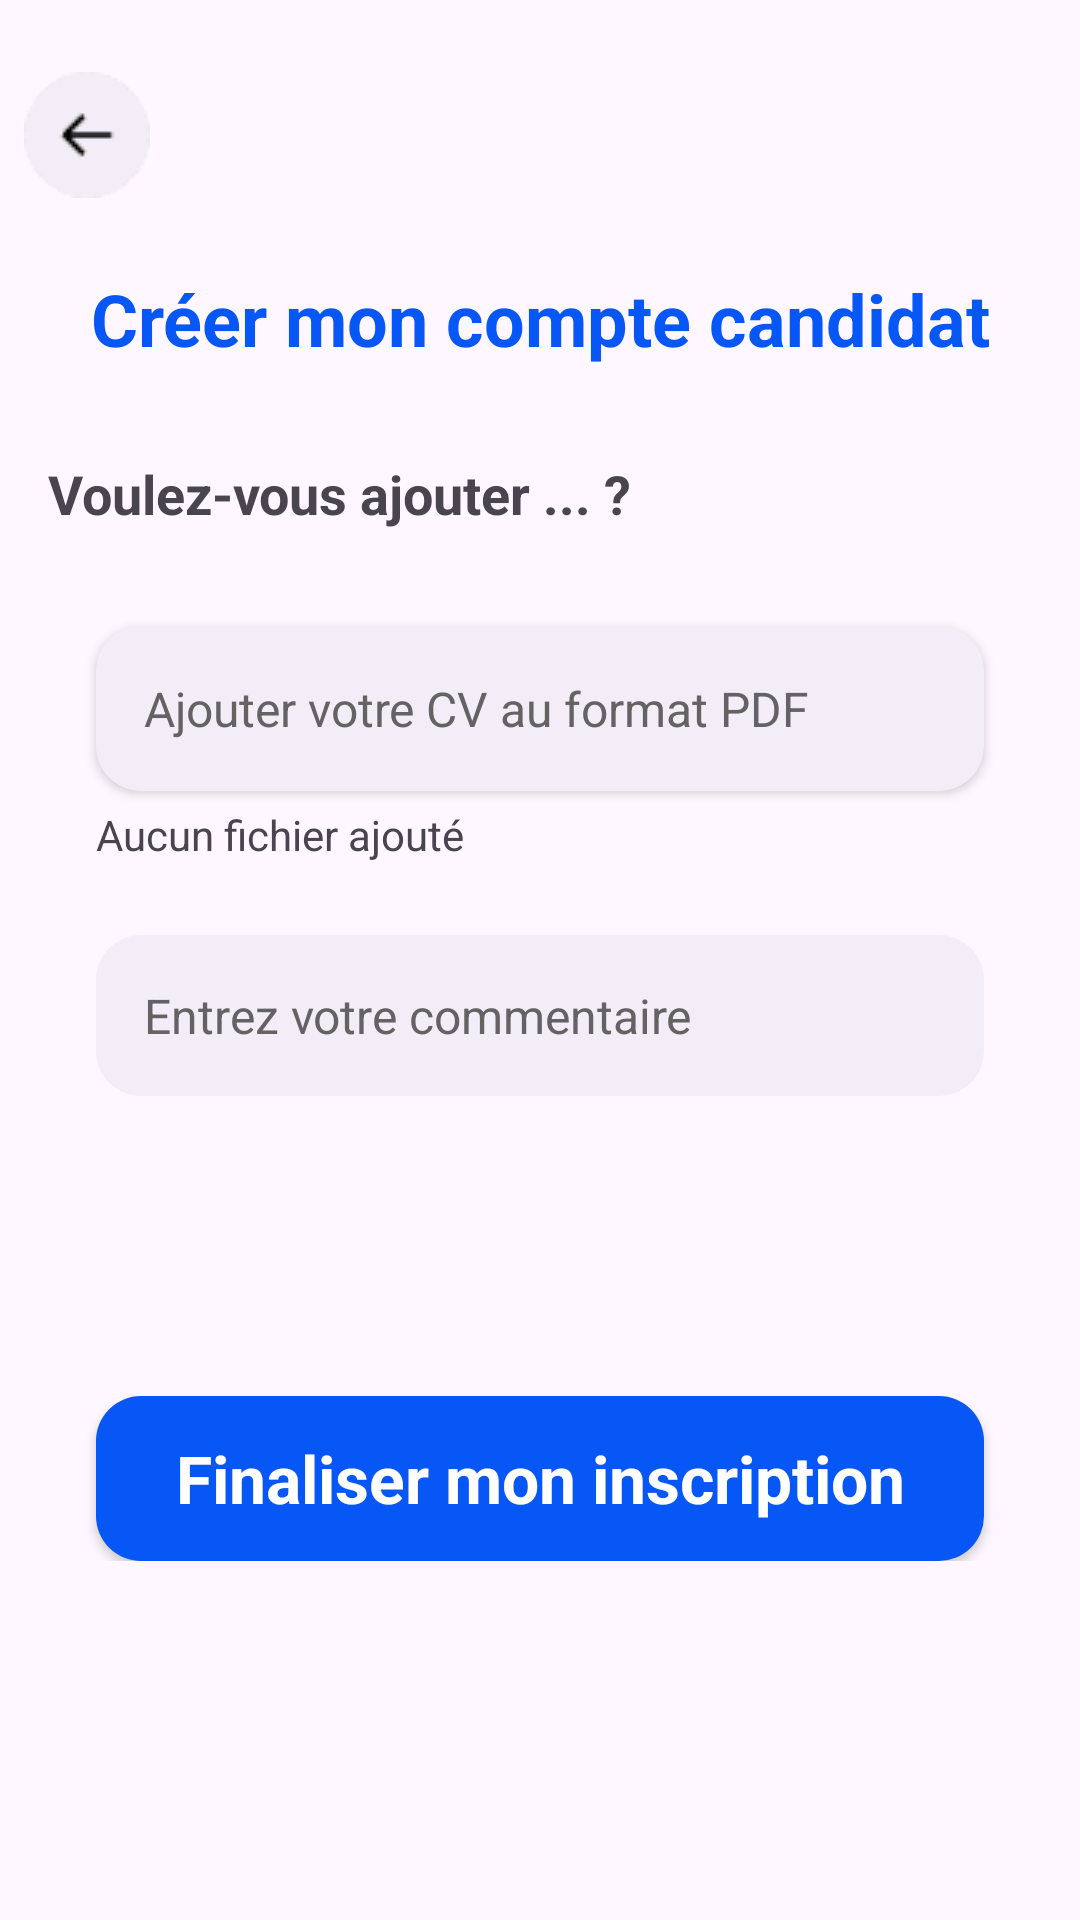

Locate icon controls on the screen. Image size 1080px×1920px, boxes as (x1, y1, x2, y2).
back: (24, 72, 150, 198)
